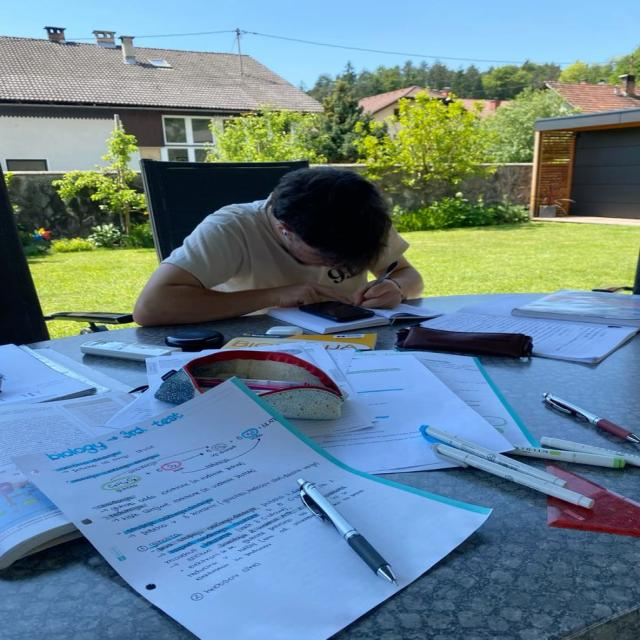9_cabeza_baja: (264, 164, 391, 271)
